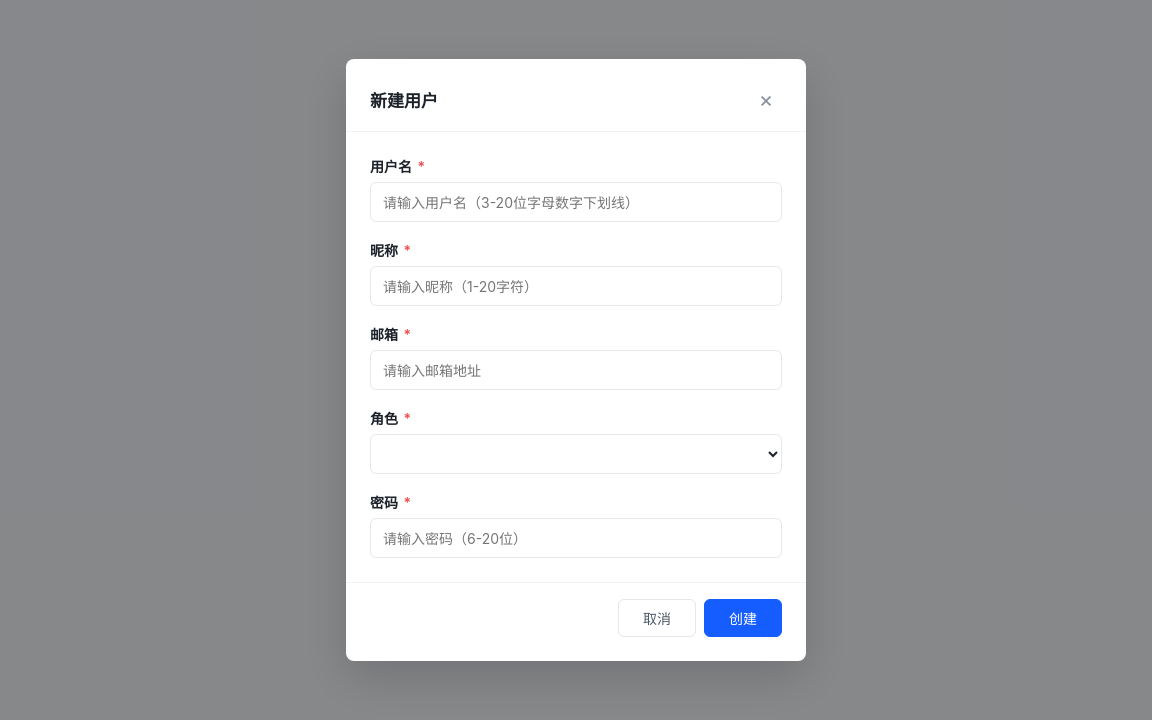
UserFormDialog 组件 › 表单验证 - 用户名 › 用户名格式不正确时显示错误
This screenshot has width=1152, height=720.
Type "ab" into the field with placeholder "请输入用户名（3-20位字母数字下划线）". click: [576, 202]
box: [370, 182, 782, 222]
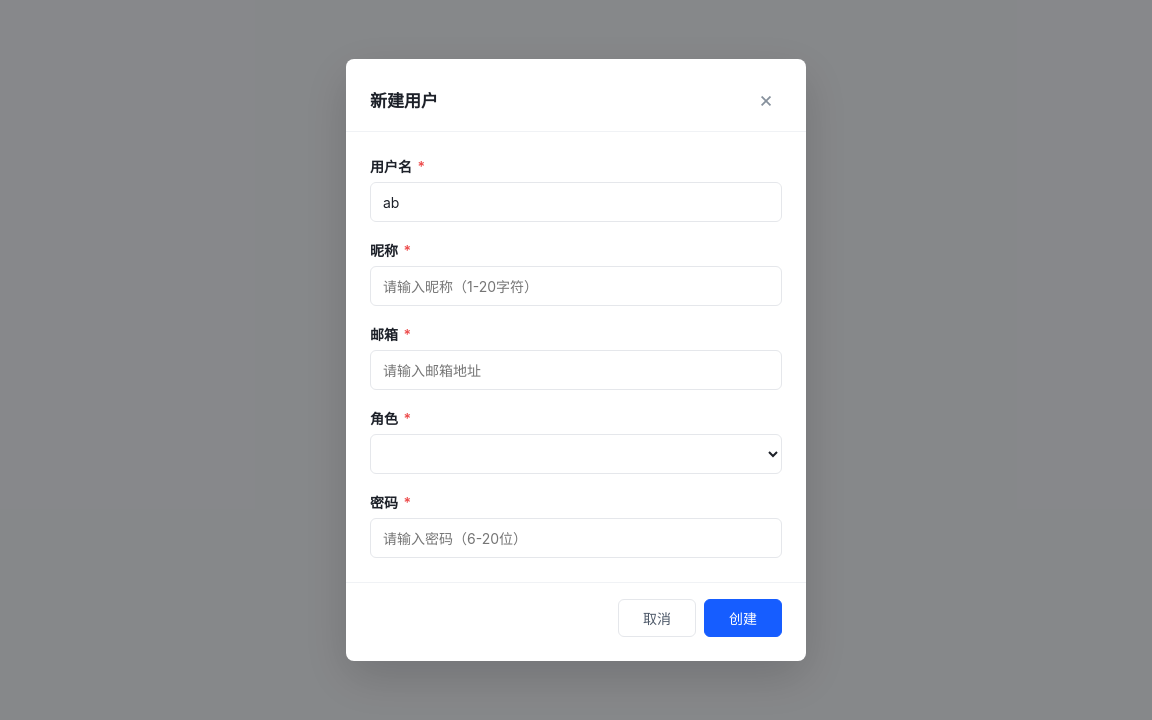
Click the button with class "btn-submit". click: [743, 618]
box: [704, 599, 782, 637]
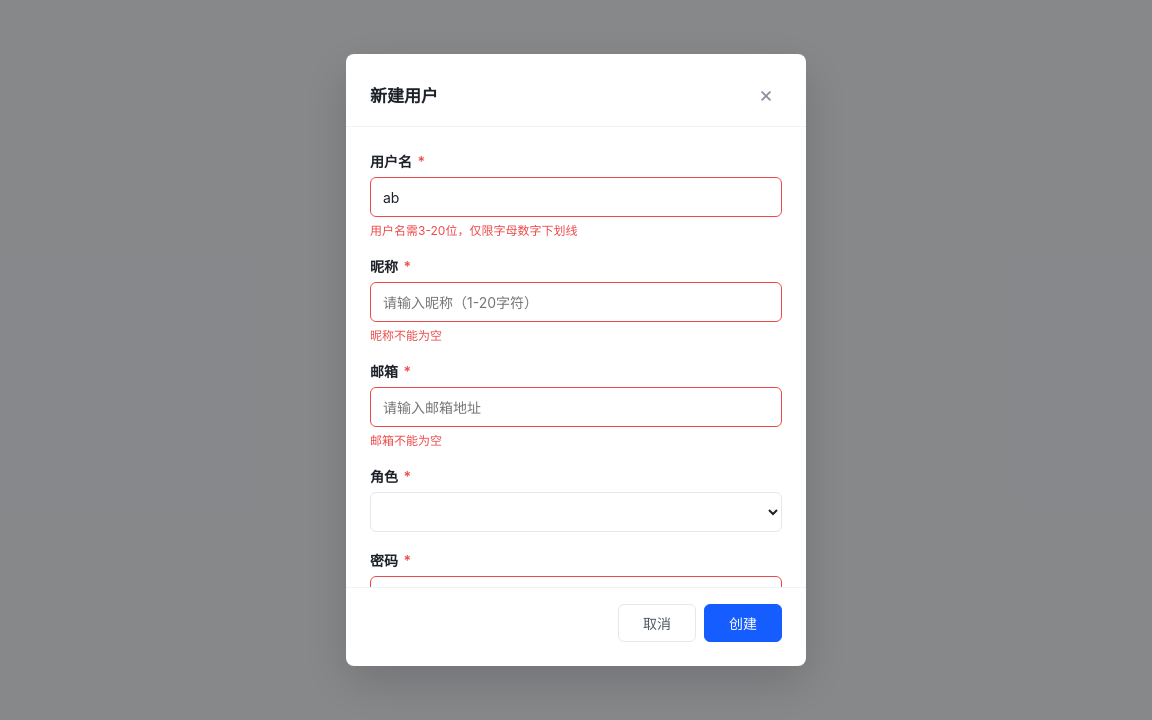
Expected: the text with class "error-text" reads "用户名需3-20位，仅限字母数字下划线", [370, 223, 577, 238]
